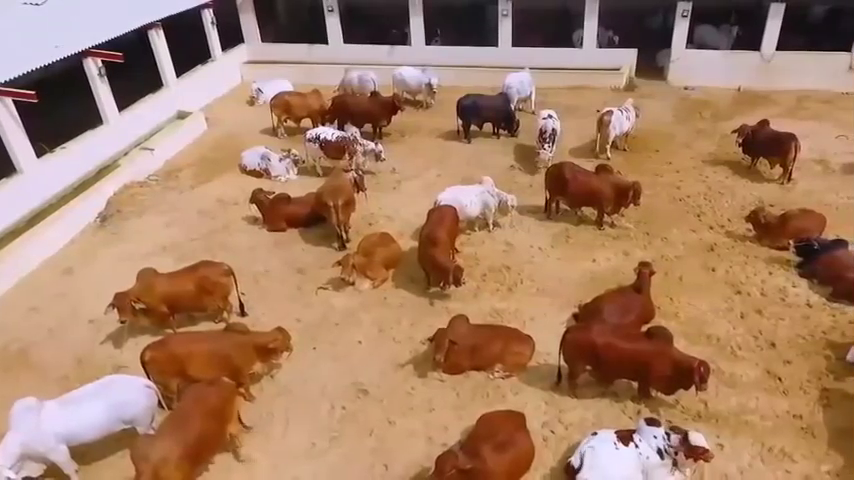bo: (1, 363, 169, 480), (118, 365, 257, 478), (557, 321, 710, 406), (108, 250, 250, 335), (135, 321, 298, 393), (557, 412, 726, 480), (567, 248, 677, 336), (425, 307, 542, 382), (427, 399, 540, 474), (541, 150, 658, 219), (424, 160, 522, 233), (396, 200, 478, 284), (235, 168, 324, 237), (332, 221, 411, 298), (729, 110, 805, 180), (666, 11, 752, 72), (738, 191, 826, 250), (302, 121, 390, 179), (793, 226, 854, 309), (333, 83, 406, 141), (315, 162, 367, 243), (587, 88, 641, 165), (231, 130, 305, 184), (453, 85, 523, 141), (561, 8, 624, 65), (527, 94, 564, 168), (500, 57, 542, 111), (269, 88, 330, 125), (390, 57, 438, 104), (331, 58, 379, 101), (245, 65, 290, 103)
